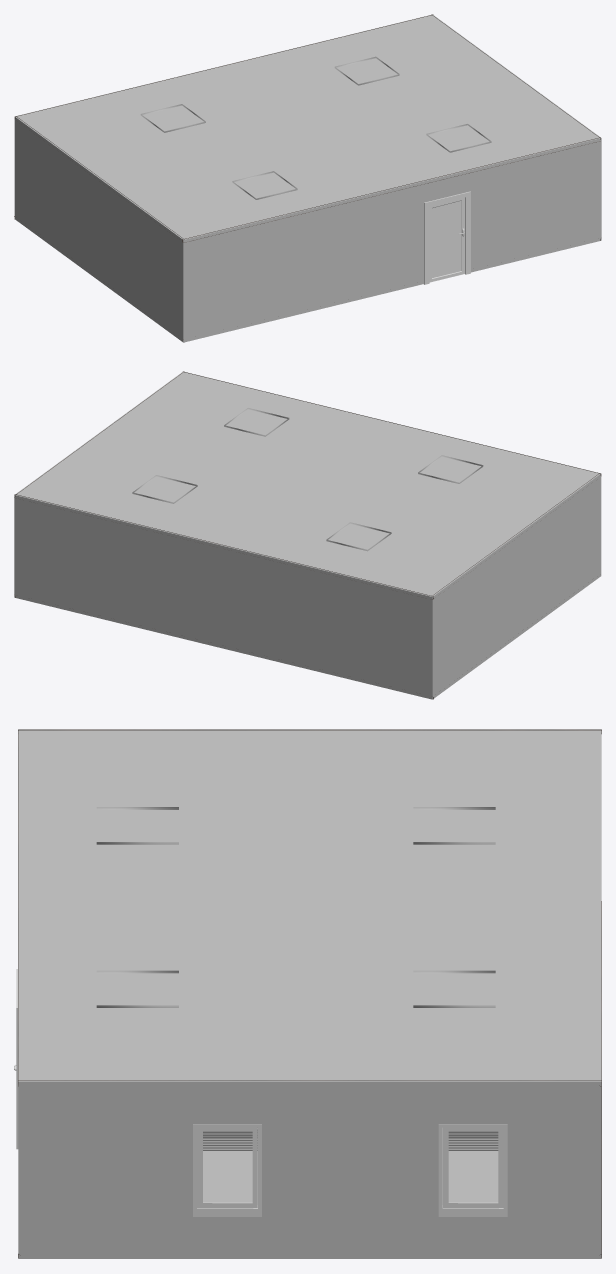
File: palata_main.fbx
The picture shows the model from 3 angles, top to bottom: view 1: azimuth 30°, elevation 25°; view 2: azimuth 150°, elevation 25°; view 3: azimuth 270°, elevation 25°; orthographic projection. The views are drawn at different scales.
Visible parts, largest first — view 1: room, door, plintus, Lamps; view 2: room, plintus, Lamps; view 3: room, window2, window1, plintus, Lamps, blinds.
Part boxes in pixels (<box>): room: <box>14,14,601,342</box>; door: <box>424,191,470,284</box>; plintus: <box>14,14,600,339</box>; Lamps: <box>140,56,491,199</box>; room: <box>14,371,601,699</box>; plintus: <box>14,371,601,699</box>; Lamps: <box>132,408,483,551</box>; room: <box>18,729,601,1258</box>; window2: <box>438,1124,507,1216</box>; window1: <box>193,1124,261,1216</box>; plintus: <box>18,729,601,1257</box>; Lamps: <box>96,807,495,1007</box>; blinds: <box>203,1128,498,1150</box>.
Size of the model in its own units: 2053 by 490 by 1444.
